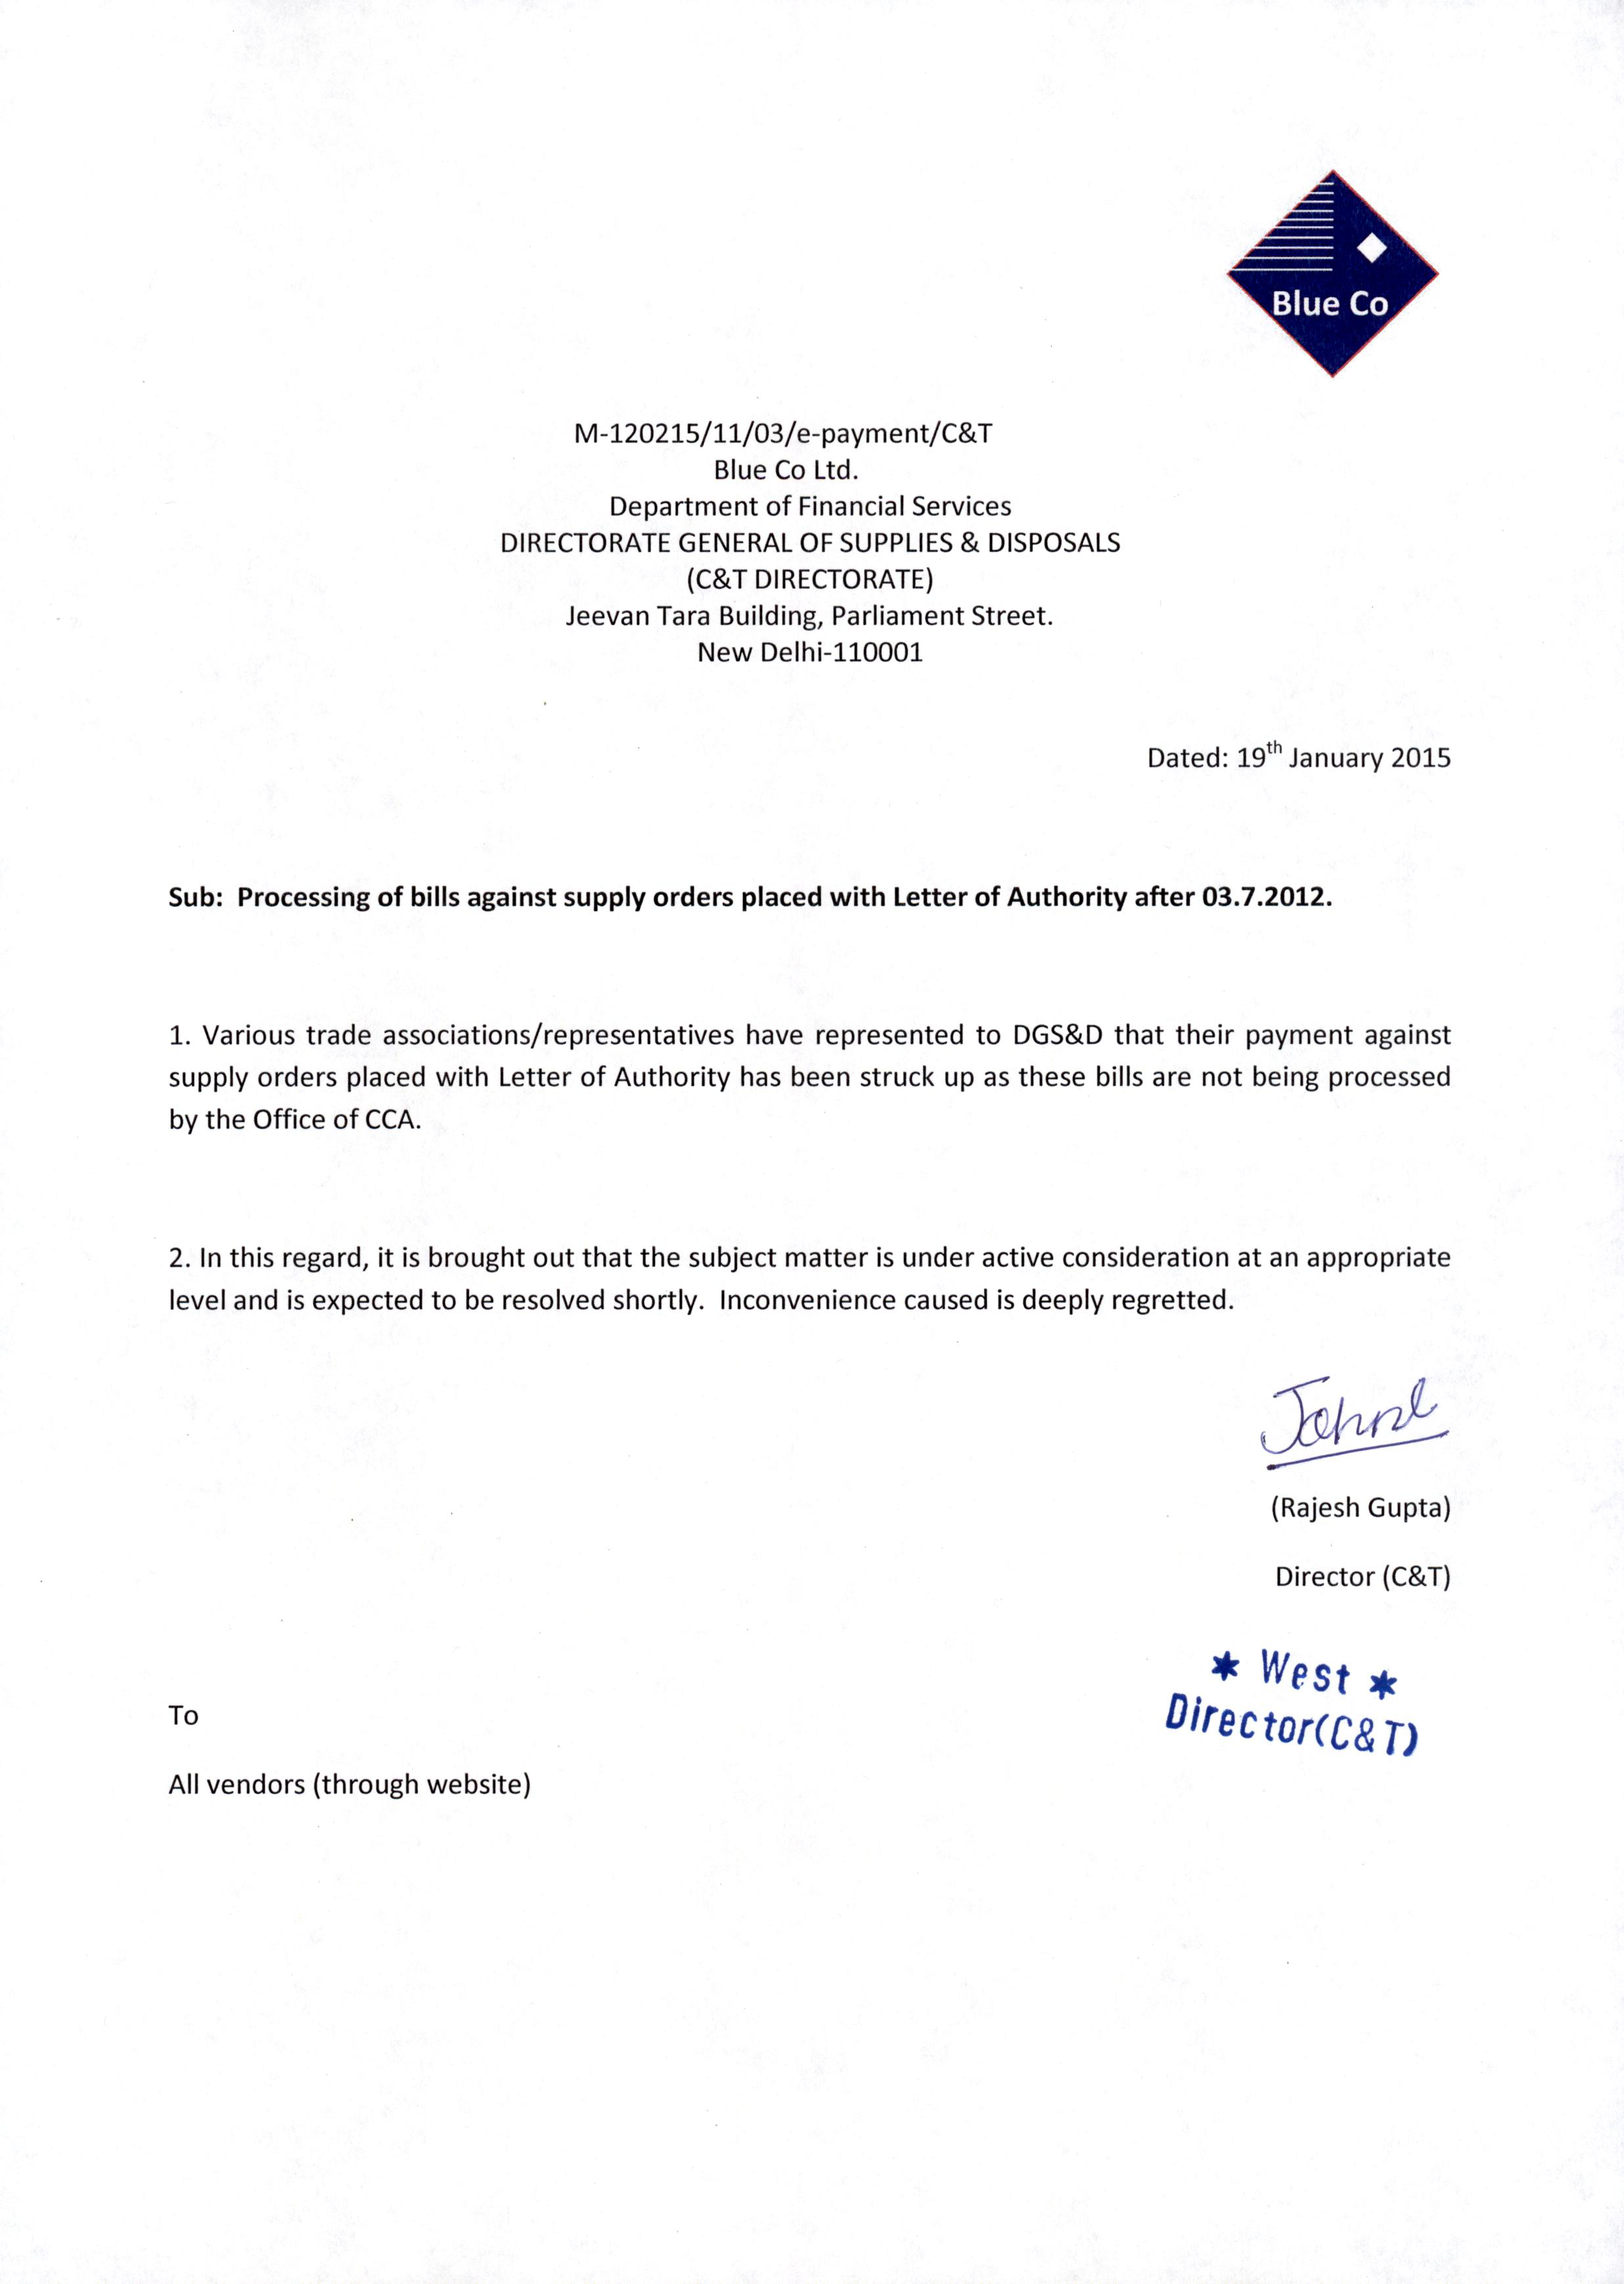Signature: (1251, 1361, 1455, 1473)
